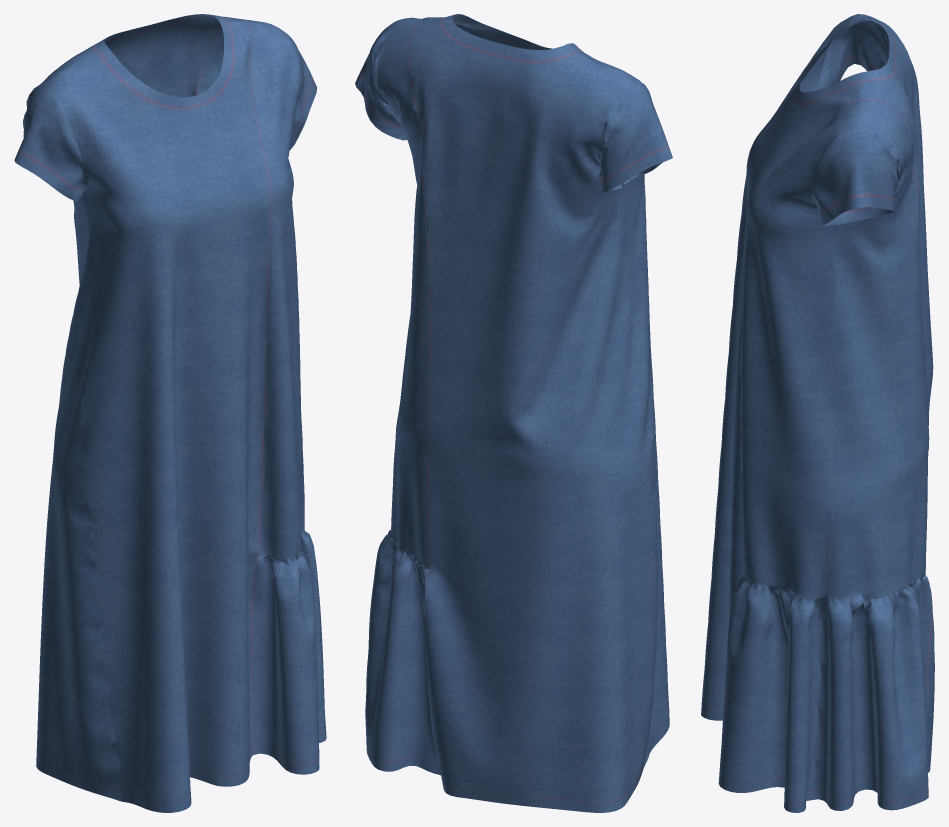
File: 148800178-C5cbtESQ.glb
3 views of the same model, side by side, from view 1: azimuth 30°, elevation 25°; view 2: azimuth 150°, elevation 25°; view 3: azimuth 270°, elevation 25° (orthographic). The views are drawn at different scales.
Visible parts, largest first — view 1: Design_Piece_mat_3_front0_6_0_Outside, Design_Piece_mat_6_back0_10_0_Outside, Design_Piece_mat_4_front0_8_0_Outside, Design_Piece_mat_5_front0_9_0_Outside, Design_Piece_mat_0_sleeve2_2_0_Outside, Design_Piece_mat_2_front0_5_0_Outside, Design_Piece_mat_1_sleeve1_3_0_Outside, Design_Piece_mat_8_back0_13_0_Outside; view 2: Design_Piece_mat_6_back0_10_0_Outside, Design_Piece_mat_7_back0_12_0_Outside, Design_Piece_mat_8_back0_13_0_Outside, Design_Piece_mat_3_front0_6_0_Outside, Design_Piece_mat_0_sleeve2_2_0_Outside, Design_Piece_mat_1_sleeve1_3_0_Outside, Design_Piece_mat_2_front0_5_0_Outside; view 3: Design_Piece_mat_8_back0_13_0_Outside, Design_Piece_mat_4_front0_8_0_Outside, Design_Piece_mat_7_back0_12_0_Outside, Design_Piece_mat_5_front0_9_0_Outside, Design_Piece_mat_3_front0_6_0_Outside, Design_Piece_mat_6_back0_10_0_Outside, Design_Piece_mat_1_sleeve1_3_0_Outside, Design_Piece_mat_0_sleeve2_2_0_Outside, Design_Piece_mat_2_front0_5_0_Outside.
Part boxes in pixels (x1=…): Design_Piece_mat_3_front0_6_0_Outside: x1=45, y1=21, x2=272, y2=812; Design_Piece_mat_6_back0_10_0_Outside: x1=36, y1=14, x2=250, y2=801; Design_Piece_mat_4_front0_8_0_Outside: x1=250, y1=23, x2=304, y2=562; Design_Piece_mat_5_front0_9_0_Outside: x1=252, y1=531, x2=326, y2=774; Design_Piece_mat_0_sleeve2_2_0_Outside: x1=14, y1=84, x2=85, y2=202; Design_Piece_mat_2_front0_5_0_Outside: x1=98, y1=18, x2=233, y2=107; Design_Piece_mat_1_sleeve1_3_0_Outside: x1=283, y1=31, x2=317, y2=149; Design_Piece_mat_8_back0_13_0_Outside: x1=197, y1=19, x2=277, y2=94; Design_Piece_mat_6_back0_10_0_Outside: x1=409, y1=14, x2=657, y2=812; Design_Piece_mat_7_back0_12_0_Outside: x1=365, y1=530, x2=440, y2=775; Design_Piece_mat_8_back0_13_0_Outside: x1=376, y1=18, x2=429, y2=569; Design_Piece_mat_3_front0_6_0_Outside: x1=432, y1=17, x2=669, y2=757; Design_Piece_mat_0_sleeve2_2_0_Outside: x1=598, y1=83, x2=672, y2=193; Design_Piece_mat_1_sleeve1_3_0_Outside: x1=355, y1=24, x2=406, y2=140; Design_Piece_mat_2_front0_5_0_Outside: x1=452, y1=14, x2=582, y2=51; Design_Piece_mat_8_back0_13_0_Outside: x1=821, y1=100, x2=928, y2=602; Design_Piece_mat_4_front0_8_0_Outside: x1=740, y1=101, x2=861, y2=600; Design_Piece_mat_7_back0_12_0_Outside: x1=811, y1=576, x2=930, y2=810; Design_Piece_mat_5_front0_9_0_Outside: x1=718, y1=575, x2=821, y2=812; Design_Piece_mat_3_front0_6_0_Outside: x1=701, y1=14, x2=865, y2=720; Design_Piece_mat_6_back0_10_0_Outside: x1=860, y1=14, x2=934, y2=772; Design_Piece_mat_1_sleeve1_3_0_Outside: x1=813, y1=127, x2=900, y2=226; Design_Piece_mat_0_sleeve2_2_0_Outside: x1=819, y1=20, x2=889, y2=89; Design_Piece_mat_2_front0_5_0_Outside: x1=795, y1=20, x2=864, y2=103.
Bounding box in the file's own units: 0.4783 × 1.09 × 0.3235.
Materials: 1 (1 with a texture image).
